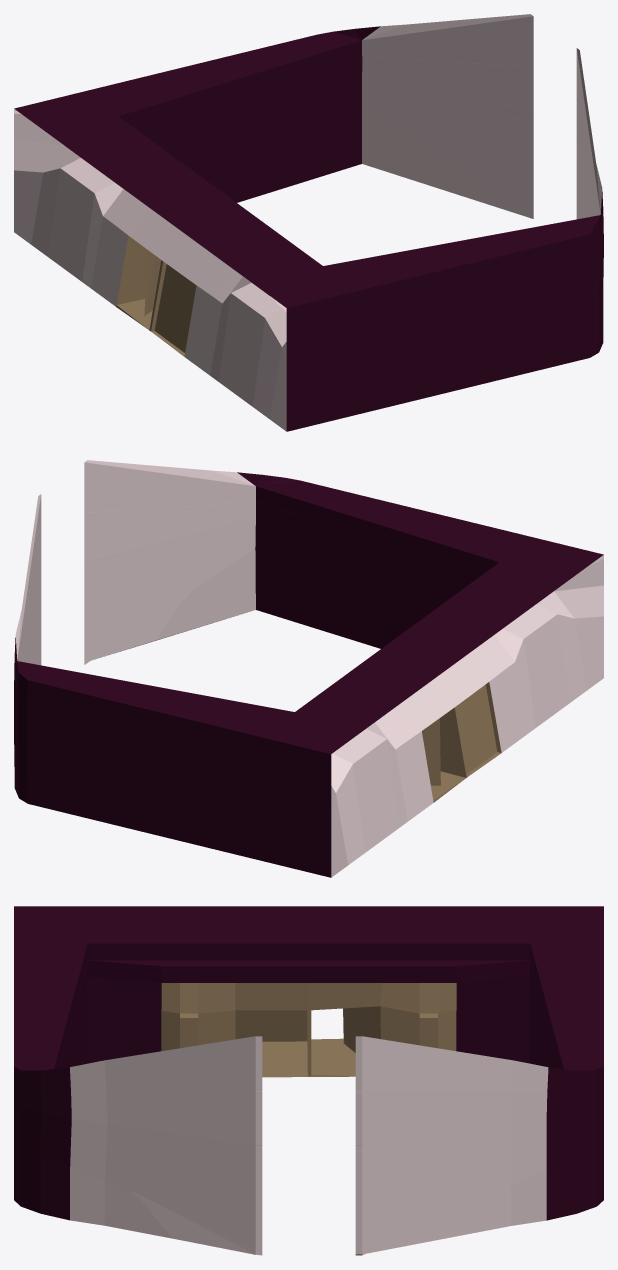
The model's file is jewleryisland (1).fbx.
The picture shows the model from 3 angles, top to bottom: view 1: azimuth 30°, elevation 25°; view 2: azimuth 150°, elevation 25°; view 3: azimuth 270°, elevation 25°; orthographic projection. The views are drawn at different scales.
Parts seen in each view (by area): view 1: Cube; view 2: Cube; view 3: Cube.
Part boxes in pixels (x1,y1,x2,y2): Cube: (14, 14, 603, 431); Cube: (14, 460, 603, 877); Cube: (14, 906, 603, 1255).
Bounding box in the file's own units: 686 × 328 × 800.
